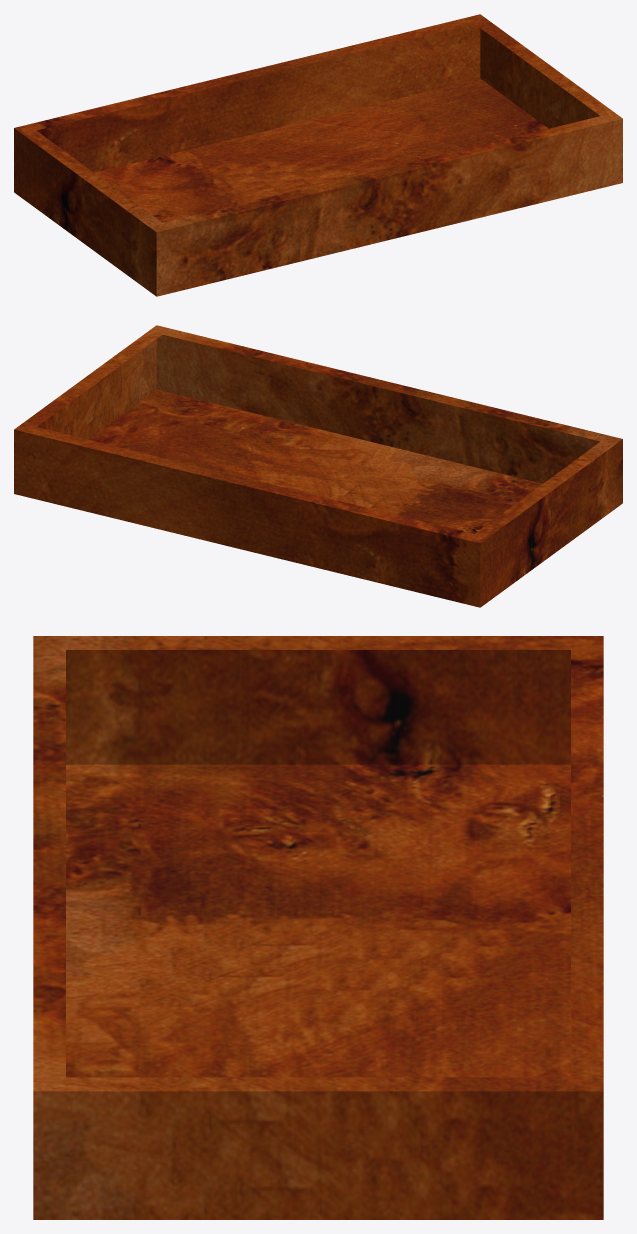
The model's file is original-132.obj.
3 renders of one model, top to bottom at view 1: azimuth 30°, elevation 25°; view 2: azimuth 150°, elevation 25°; view 3: azimuth 270°, elevation 25°, orthographic. The views are drawn at different scales.
Visible parts, largest first — view 1: #ID824; view 2: #ID824; view 3: #ID824.
Boxes of the visible parts, x1,y1,x2,y2 form: #ID824: (14,14,622,296); #ID824: (14,325,622,607); #ID824: (33,636,603,1219).
Size of the model in its own units: 0.3899 by 0.0514 by 0.2066.
Materials: 1 (1 with a texture image).
